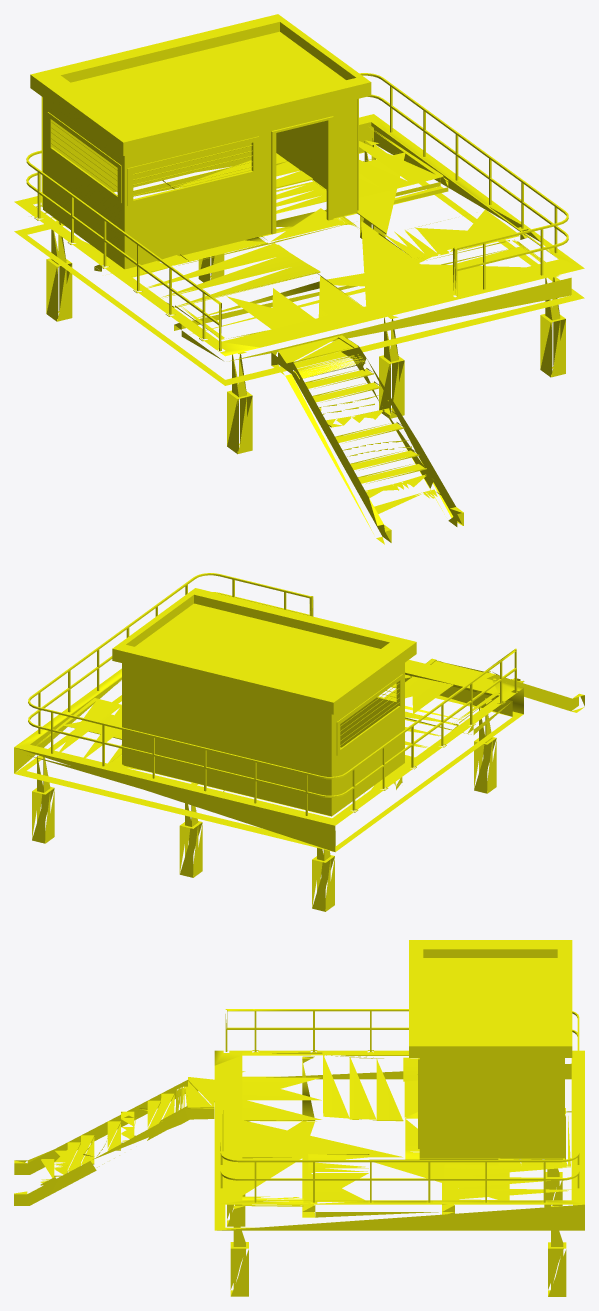
File: security_post.glb
The picture shows the model from 3 angles, top to bottom: view 1: azimuth 30°, elevation 25°; view 2: azimuth 150°, elevation 25°; view 3: azimuth 270°, elevation 25°; orthographic projection. The views are drawn at different scales.
Parts seen in each view (by area): view 1: Platform_Metal, Security_post; view 2: Security_post, Platform_Metal; view 3: Platform_Metal, Security_post.
Boxes of the visible parts, x1,y1,x2,y2 form: Platform_Metal: [14, 73, 584, 544]; Security_post: [30, 14, 371, 269]; Security_post: [112, 588, 416, 816]; Platform_Metal: [14, 573, 584, 911]; Platform_Metal: [14, 1009, 584, 1296]; Security_post: [409, 940, 572, 1159].
Bounding box in the file's own units: 25606 × 16715 × 39988.
